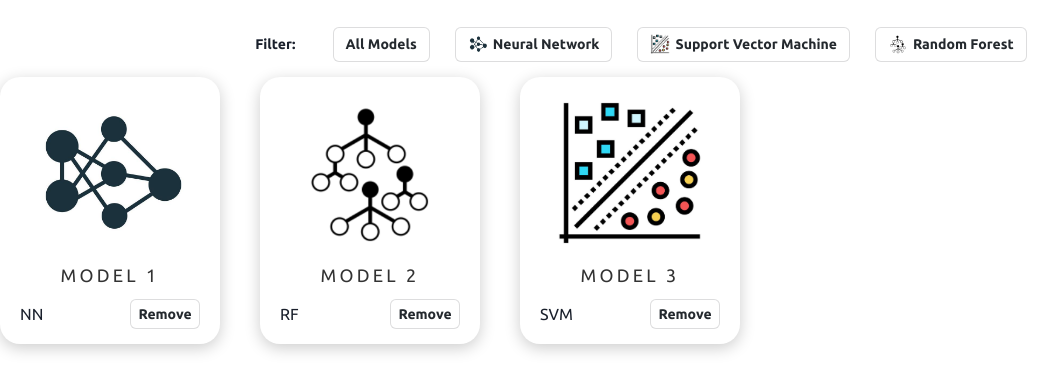
Test: UserSelectButton component › displays only Support Vector Machine models when "Support Vector Machine" button is clicked
Step 1. Click the button "Support Vector Machine" → click(744, 44), box [638,27,850,62]
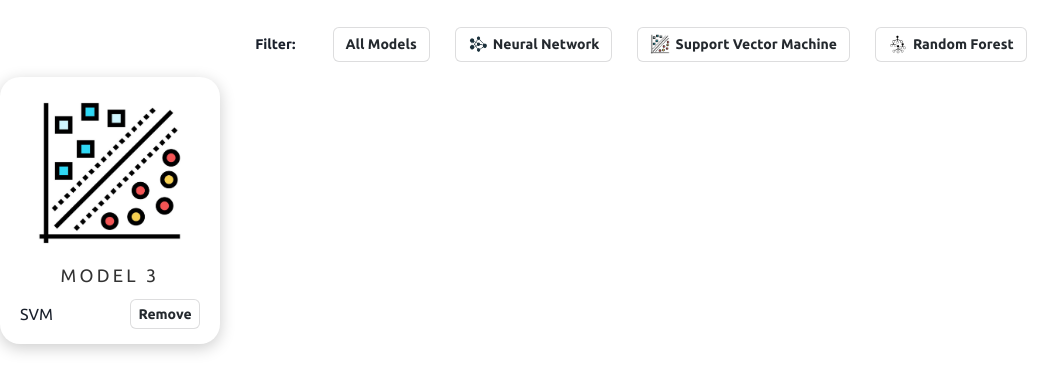
Check: the link "Model 1" is gone
Check: the link "Model 2" is gone
